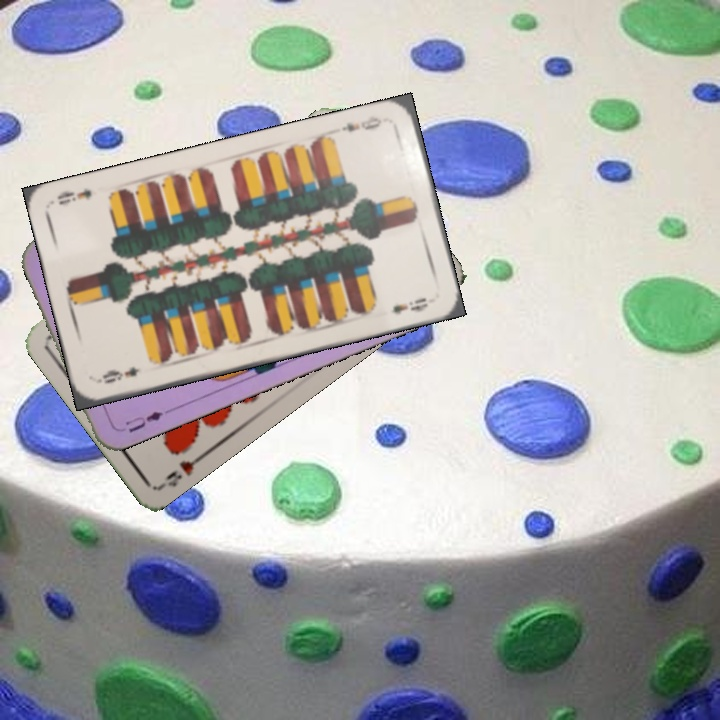E9: (332, 111, 384, 136), (95, 362, 141, 387)
EU: (120, 407, 166, 435)
H9: (157, 449, 209, 490)
